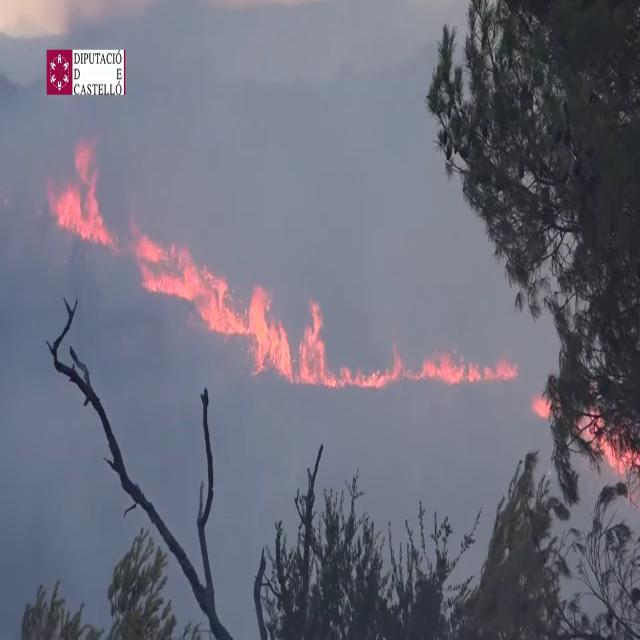Fire: (245, 286, 398, 390), (128, 222, 222, 329), (50, 137, 111, 247), (415, 342, 526, 391)
